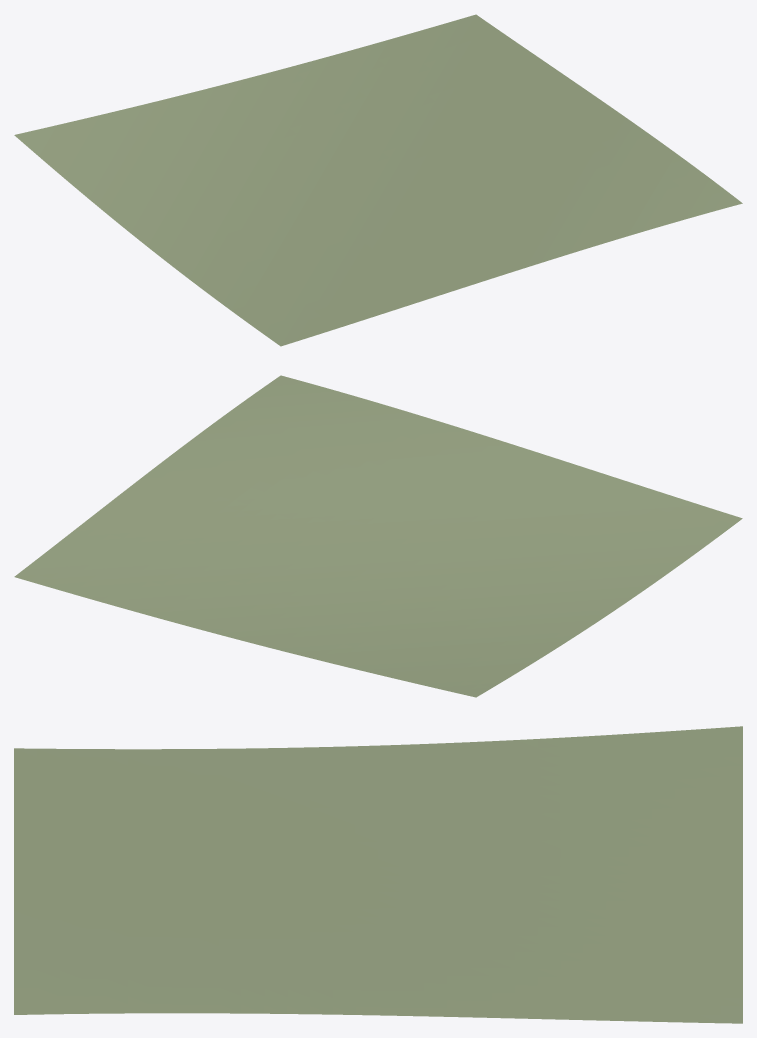
File: alpine-1-1.glb
The picture shows the model from 3 angles, top to bottom: view 1: azimuth 30°, elevation 25°; view 2: azimuth 150°, elevation 25°; view 3: azimuth 270°, elevation 25°; orthographic projection. The views are drawn at different scales.
Visible parts, largest first — view 1: alpine-1-1; view 2: alpine-1-1; view 3: alpine-1-1.
Part boxes in pixels (<box>): alpine-1-1: <box>14,14,742,346</box>; alpine-1-1: <box>14,375,742,697</box>; alpine-1-1: <box>14,726,742,1023</box>.
Size of the model in its own units: 256 by 17.03 by 256.
